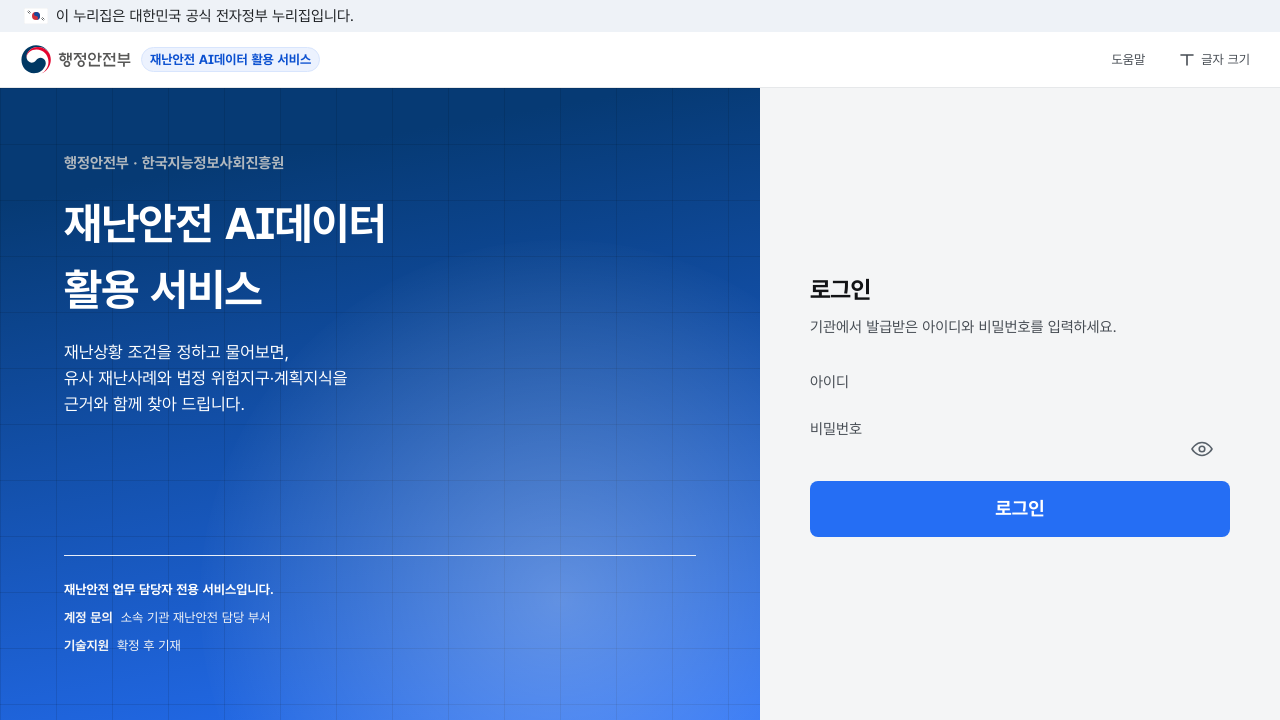
Test: ① 로그인 화면(개발서버 LoginPage) › 개발서버에 없는 것은 없다: 계정 카드 · 아이디 지우기 · Caps Lock 안내 · 5회 잠금 안내 줄 · 칸별 입력 오류
Click the button "로그인" at (1020, 508), box [810,480,1230,536]
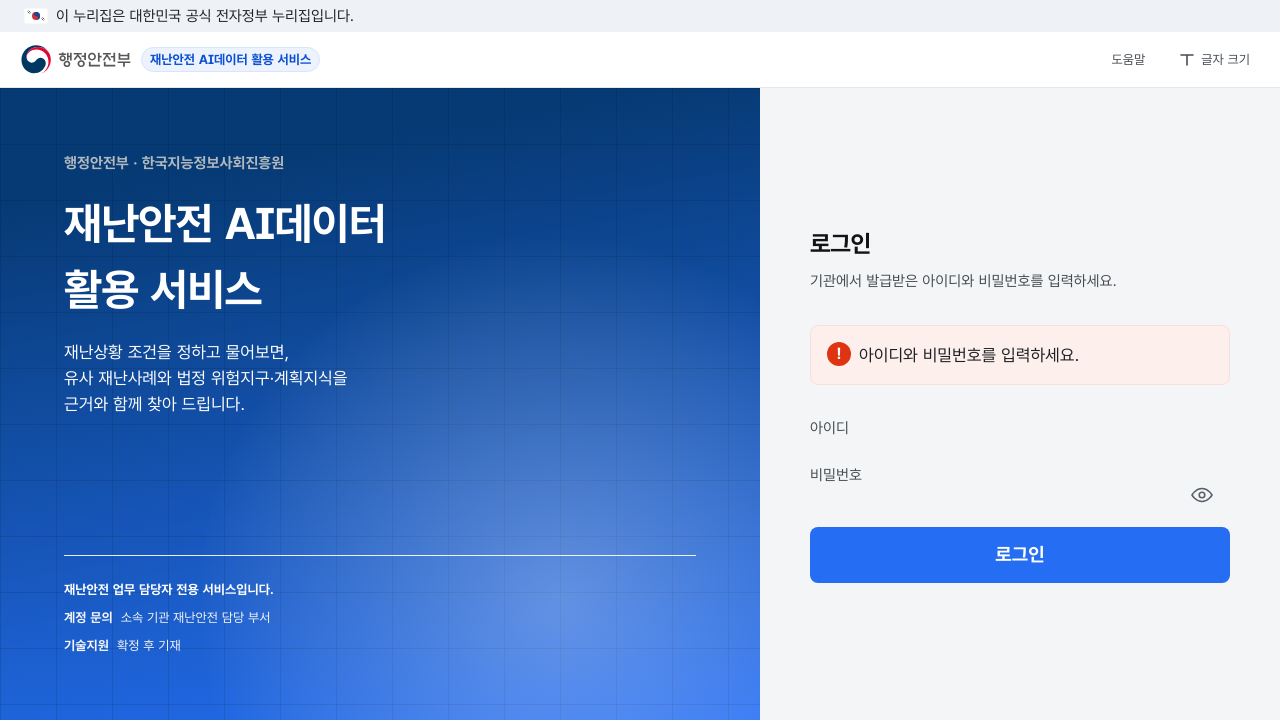
Result: the message reads "! 아이디와 비밀번호를 입력하세요." at [810,324,1230,384]
